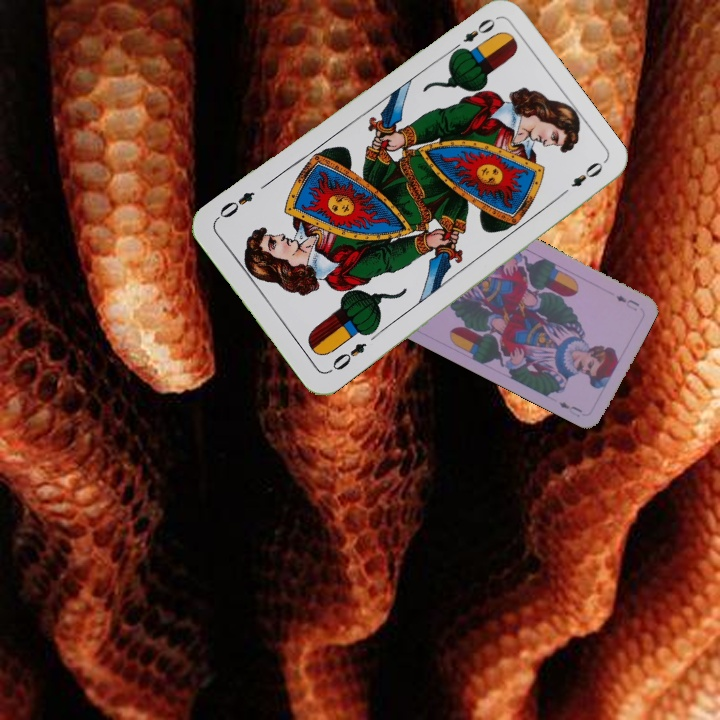EO: (447, 14, 498, 57), (325, 338, 369, 376)
EU: (612, 291, 642, 314)
